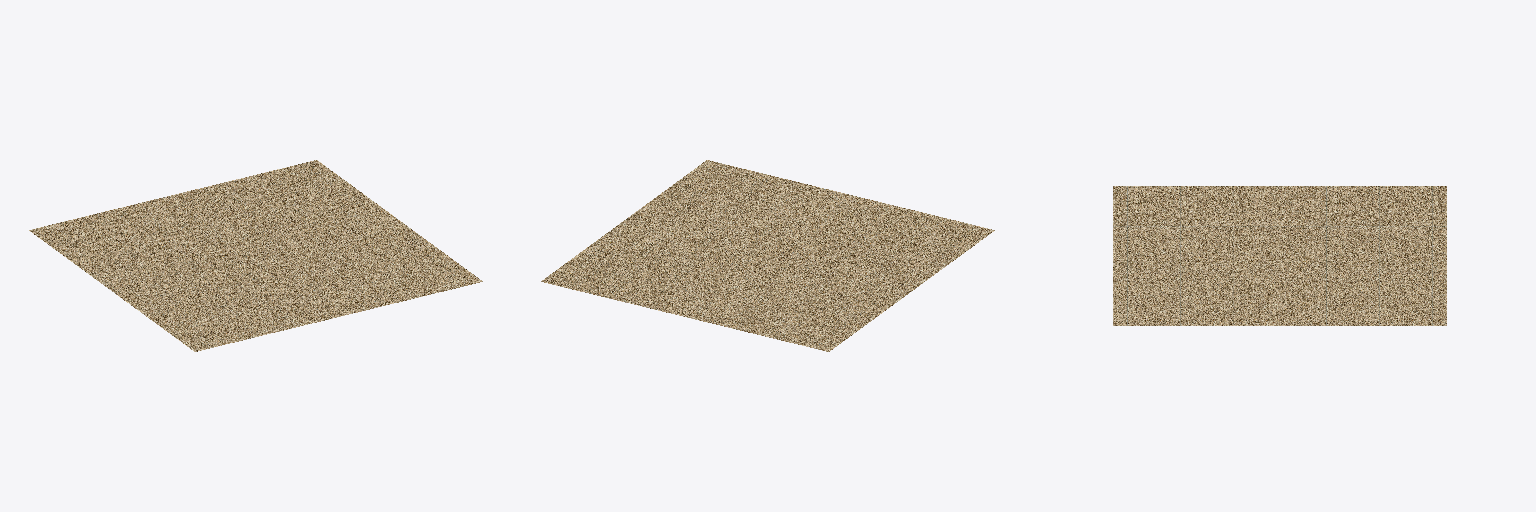
The picture shows the model from 3 angles: view 1: azimuth 30°, elevation 25°; view 2: azimuth 150°, elevation 25°; view 3: azimuth 270°, elevation 25°; orthographic projection.
Parts seen in each view (by area): view 1: Plane; view 2: Plane; view 3: Plane.
Boxes of the visible parts, box(x1,y1,x2,y2) form: Plane: box(29, 160, 482, 351); Plane: box(541, 160, 994, 351); Plane: box(1113, 186, 1446, 325).
Bounding box in the file's own units: 153 × 0 × 153.
1 materials, 1 textured.